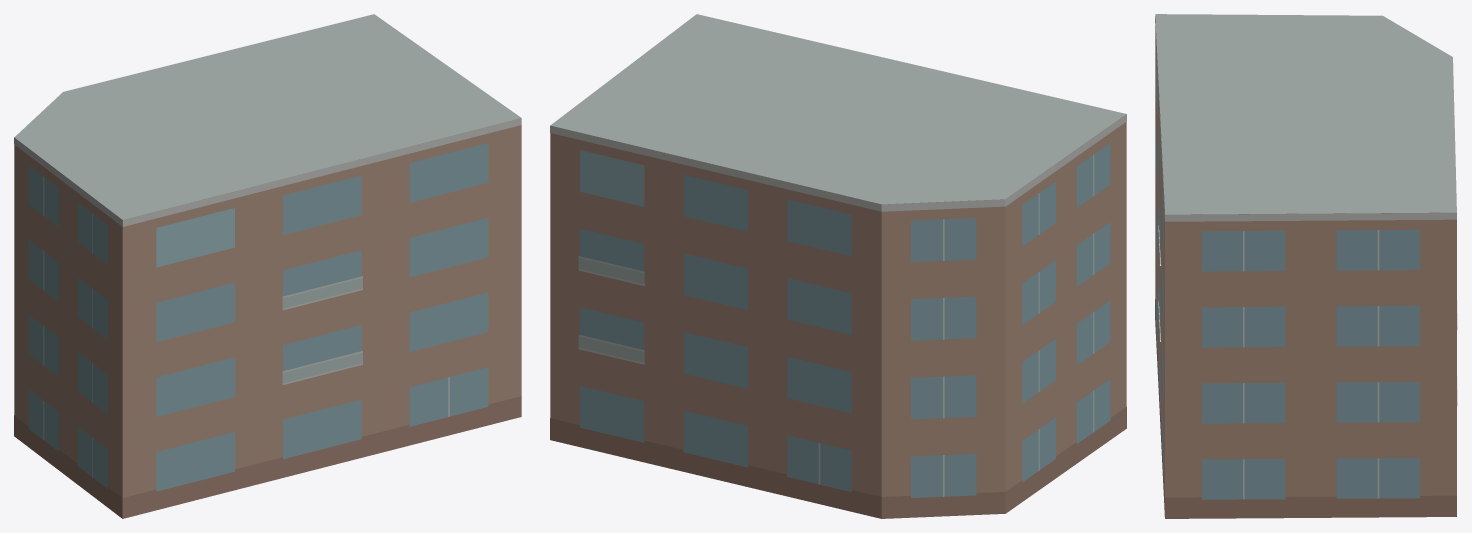
File: survey-upis-32893969.glb
The picture shows the model from 3 angles, left to right: view 1: azimuth 30°, elevation 25°; view 2: azimuth 150°, elevation 25°; view 3: azimuth 270°, elevation 25°; orthographic projection. The views are drawn at different scales.
Parts seen in each view (by area): view 1: survey-upis-32893969.tmp; view 2: survey-upis-32893969.tmp; view 3: survey-upis-32893969.tmp.
Part boxes in pixels (<box>): survey-upis-32893969.tmp: <box>14,14,521,518</box>; survey-upis-32893969.tmp: <box>550,14,1126,518</box>; survey-upis-32893969.tmp: <box>1155,14,1457,518</box>.
Bounding box in the file's own units: 14.72 × 10.4 × 9.38.
